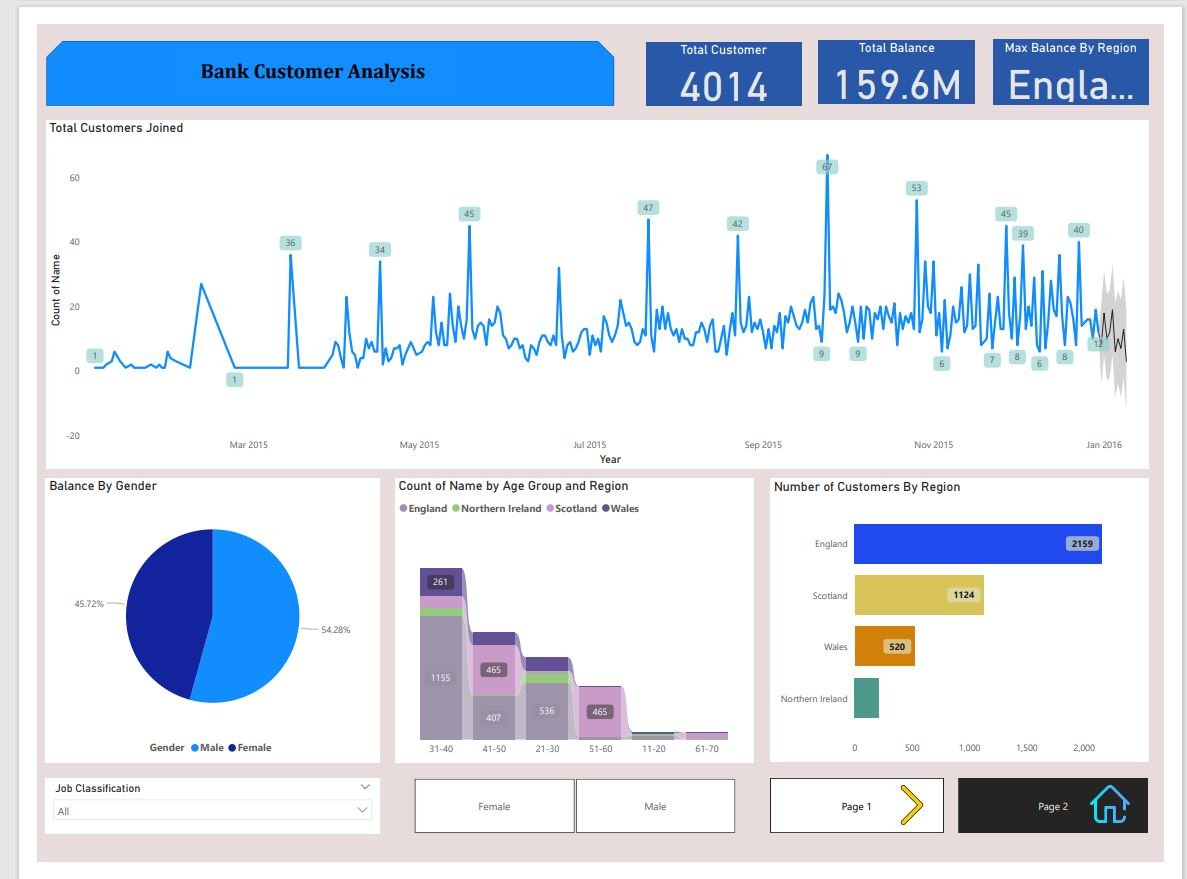

What the dashboard file says about the page in this screenshot:
{"tool":"powerbi","page":{"name":"Page 2","canvas":[1480,1100],"ordinal":1},"visuals":[{"type":"shape","box":[11.7,21.7,746.7,85],"z":0},{"type":"textbox","box":[181.7,40,361.7,50],"z":1000},{"type":"lineChart","title":"Total Customers Joined","fields":{"Y":["CountNonNull(Bank Data Analysis.Name)"],"Category":["Bank Data Analysis.Date Joined.Variation.Date Hierarchy.Year","Bank Data Analysis.Date Joined.Variation.Date Hierarchy.Quarter","Bank Data Analysis.Date Joined.Variation.Date Hierarchy.Month","Bank Data Analysis.Date Joined.Variation.Date Hierarchy.Day"]},"box":[11.4,125.7,1448.6,458.6],"z":2000},{"type":"pieChart","title":"Balance By Gender","fields":{"Category":["Bank Data Analysis.Gender"],"Y":["Sum(Bank Data Analysis.Balance)"]},"box":[11.4,595.7,438.6,372.9],"z":3000},{"type":"barChart","title":"Number of Customers By Region","fields":{"Y":["CountNonNull(Bank Data Analysis.Name)"],"Category":["Bank Data Analysis.Region"]},"box":[962.9,597.1,497.1,371.4],"z":5000},{"type":"card","title":"Total Balance","fields":{"Values":["Bank Data Analysis.Total Balance"]},"box":[1027.1,21.4,205,84],"z":6000},{"type":"card","title":"Total Customer","fields":{"Values":["Bank Data Analysis.Total Customer"]},"box":[800,22.9,204.3,84.3],"z":7000},{"type":"columnChart","fields":{"Category":["Bank Data Analysis.Age Group"],"Y":["CountNonNull(Bank Data Analysis.Name)"],"Series":["Bank Data Analysis.Region"]},"box":[470,595.7,471.4,372.9],"z":7001},{"type":"card","title":"Max Balance By Region","fields":{"Values":["Min(Bank Data Analysis.Region)"]},"box":[1255.7,20,204.3,85.7],"z":7002},{"type":"pageNavigator","box":[1211.4,990,248.6,72.9],"z":7003},{"type":"pageNavigator","box":[962.9,990,228.6,72.9],"z":7004},{"type":"slicer","fields":{"Values":["Bank Data Analysis.Gender"]},"box":[470,984.3,471.4,84.3],"z":7005},{"type":"slicer","fields":{"Values":["Bank Data Analysis.Job Classification"]},"box":[11.4,990,438.6,72.9],"z":7006},{"type":"image","box":[1378.6,990,61.4,67.1],"z":7007},{"type":"image","box":[1118.6,994.3,61.4,61.4],"z":7008}]}

Visuals, with their boxes in screenshot pixels (x1, y1, x2, y2), scaled from the page's 1480x1100 canvas onto the 1187x879 screenshot:
shape: crop(9, 17, 608, 85)
textbox: crop(146, 32, 436, 72)
"Total Customers Joined" lineChart: crop(9, 100, 1171, 467)
"Balance By Gender" pieChart: crop(9, 476, 361, 774)
"Number of Customers By Region" barChart: crop(772, 477, 1171, 774)
"Total Balance" card: crop(824, 17, 988, 84)
"Total Customer" card: crop(642, 18, 805, 86)
columnChart - Bank Data Analysis.Age Group x CountNonNull(Bank Data Analysis.Name): crop(377, 476, 755, 774)
"Max Balance By Region" card: crop(1007, 16, 1171, 84)
pageNavigator: crop(972, 791, 1171, 849)
pageNavigator: crop(772, 791, 956, 849)
slicer - Bank Data Analysis.Gender: crop(377, 787, 755, 854)
slicer - Bank Data Analysis.Job Classification: crop(9, 791, 361, 849)
image: crop(1106, 791, 1155, 845)
image: crop(897, 795, 946, 844)
